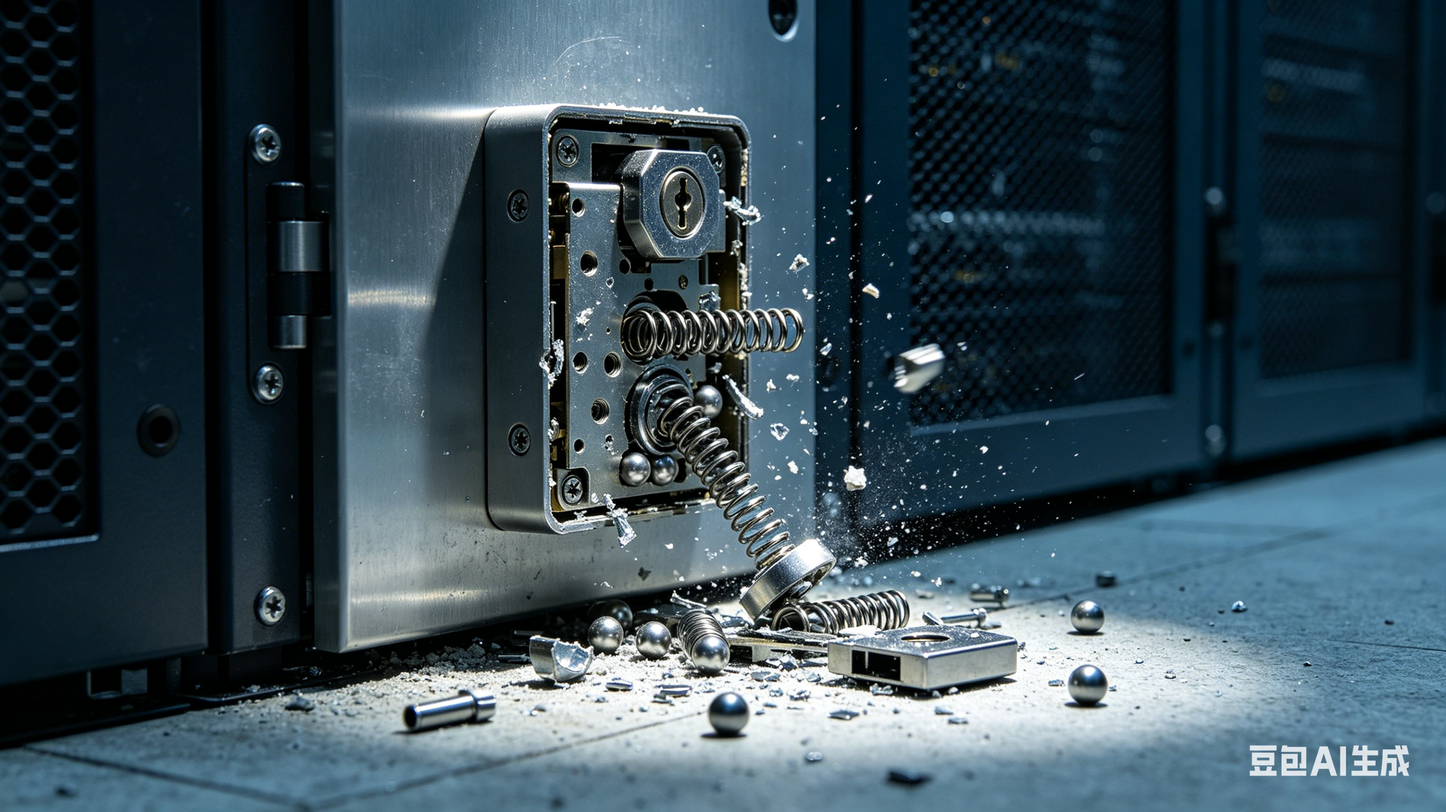BadLock: (534, 111, 754, 520)
